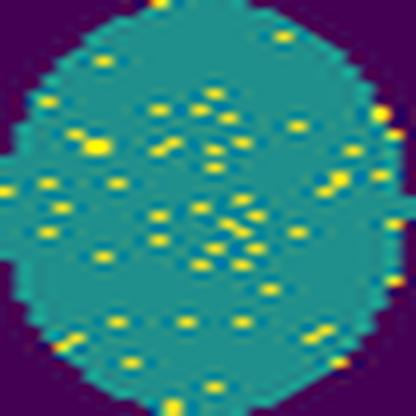Edge-Loc: (65, 130, 111, 157), (314, 172, 354, 200)
